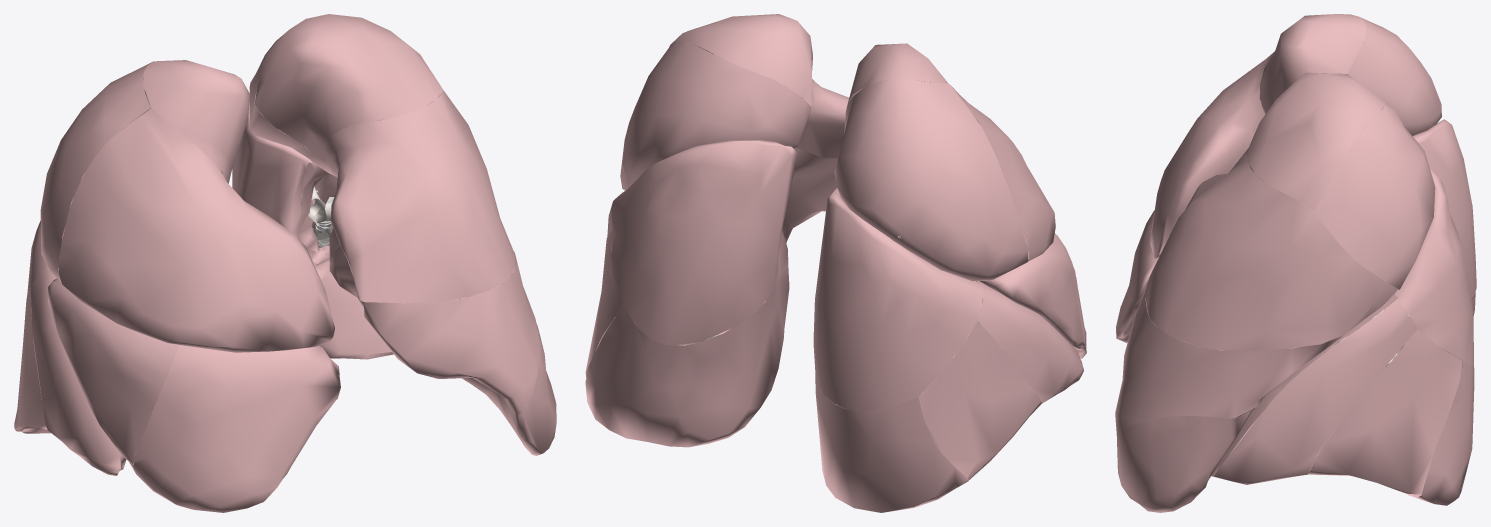
Rendered from 3d-vh-m-lung-20.fbx.
3 renders of one model, left to right at view 1: azimuth 30°, elevation 25°; view 2: azimuth 150°, elevation 25°; view 3: azimuth 270°, elevation 25°, orthographic. The views are drawn at different scales.
Parts seen in each view (by area): view 1: VH_M_right_anterior_bronchopulmonary_segment, VH_M_left_anterior_bronchopulmonary_segment, VH_M_right_medial_bronchopulmonary_segment, VH_M_left_apical_bronchopulmonary_segment, VH_M_left_lingula_superior_bronchopulmonary_segment, VH_M_right_lateral_bronchopulmonary_segment, VH_M_right_apical_bronchopulmonary_segment, VH_M_right_posterior_bronchopulmonary_segment, VH_M_right_anterior_basal_bronchopulmonary_segment, VH_M_left_superior_bronchopulmonary_segment, VH_M_left_lingula_inferior_bronchopulmonary_segment, VH_M_left_medial_basal_bronchopulmonary_segment (+5 smaller); view 2: VH_M_left_superior_bronchopulmonary_segment, VH_M_right_posterior_bronchopulmonary_segment, VH_M_right_superior_bronchopulmonary_segment, VH_M_left_posetrior_basal_bronchopulmonary_segment, VH_M_left_posterior_bronchopulmonary_segment, VH_M_right_posterior_basal_bronchopulmonary_segment, VH_M_right_lateral_basal_bronchopulmonary_segment, VH_M_left_apical_bronchopulmonary_segment, VH_M_right_anterior_basal_bronchopulmonary_segment, VH_M_right_lateral_bronchopulmonary_segment, VH_M_right_anterior_bronchopulmonary_segment, VH_M_left_lingula_superior_bronchopulmonary_segment (+3 smaller); view 3: VH_M_left_anterior_bronchopulmonary_segment, VH_M_left_posterior_bronchopulmonary_segment, VH_M_left_lateral_basal_bronchopulmonary_segment, VH_M_left_anterior_basal_bronchopulmonary_segment, VH_M_left_lingula_superior_bronchopulmonary_segment, VH_M_left_apical_bronchopulmonary_segment, VH_M_left_lingula_inferior_bronchopulmonary_segment, VH_M_right_anterior_bronchopulmonary_segment, VH_M_left_superior_bronchopulmonary_segment, VH_M_right_posterior_bronchopulmonary_segment, VH_M_right_apical_bronchopulmonary_segment, VH_M_left_posetrior_basal_bronchopulmonary_segment (+3 smaller).
Part boxes in pixels (x1=…): VH_M_right_anterior_bronchopulmonary_segment: x1=59, y1=108, x2=334, y2=352; VH_M_left_anterior_bronchopulmonary_segment: x1=324, y1=90, x2=515, y2=303; VH_M_right_medial_bronchopulmonary_segment: x1=129, y1=345, x2=340, y2=512; VH_M_left_apical_bronchopulmonary_segment: x1=254, y1=14, x2=443, y2=162; VH_M_left_lingula_superior_bronchopulmonary_segment: x1=359, y1=252, x2=538, y2=414; VH_M_right_lateral_bronchopulmonary_segment: x1=48, y1=278, x2=179, y2=465; VH_M_right_apical_bronchopulmonary_segment: x1=143, y1=60, x2=250, y2=183; VH_M_right_posterior_bronchopulmonary_segment: x1=40, y1=62, x2=152, y2=283; VH_M_right_anterior_basal_bronchopulmonary_segment: x1=30, y1=270, x2=126, y2=475; VH_M_left_superior_bronchopulmonary_segment: x1=232, y1=91, x2=312, y2=238; VH_M_left_lingula_inferior_bronchopulmonary_segment: x1=329, y1=244, x2=556, y2=455; VH_M_left_medial_basal_bronchopulmonary_segment: x1=319, y1=271, x2=499, y2=359; VH_M_left_superior_bronchopulmonary_segment: x1=611, y1=140, x2=796, y2=345; VH_M_right_posterior_bronchopulmonary_segment: x1=834, y1=80, x2=1028, y2=281; VH_M_right_superior_bronchopulmonary_segment: x1=813, y1=187, x2=983, y2=411; VH_M_left_posetrior_basal_bronchopulmonary_segment: x1=585, y1=262, x2=789, y2=447; VH_M_left_posterior_bronchopulmonary_segment: x1=622, y1=41, x2=811, y2=187; VH_M_right_posterior_basal_bronchopulmonary_segment: x1=815, y1=369, x2=968, y2=512; VH_M_right_lateral_basal_bronchopulmonary_segment: x1=885, y1=321, x2=1041, y2=480; VH_M_left_apical_bronchopulmonary_segment: x1=669, y1=14, x2=812, y2=106; VH_M_right_anterior_basal_bronchopulmonary_segment: x1=951, y1=281, x2=1083, y2=403; VH_M_right_lateral_bronchopulmonary_segment: x1=976, y1=232, x2=1085, y2=348; VH_M_right_anterior_bronchopulmonary_segment: x1=950, y1=85, x2=1055, y2=261; VH_M_left_lingula_superior_bronchopulmonary_segment: x1=623, y1=148, x2=838, y2=240; VH_M_left_anterior_bronchopulmonary_segment: x1=1145, y1=148, x2=1398, y2=350; VH_M_left_posterior_bronchopulmonary_segment: x1=1314, y1=101, x2=1435, y2=289; VH_M_left_lateral_basal_bronchopulmonary_segment: x1=1308, y1=329, x2=1462, y2=494; VH_M_left_anterior_basal_bronchopulmonary_segment: x1=1211, y1=298, x2=1417, y2=484; VH_M_left_lingula_superior_bronchopulmonary_segment: x1=1115, y1=291, x2=1395, y2=434; VH_M_left_apical_bronchopulmonary_segment: x1=1246, y1=72, x2=1385, y2=211; VH_M_left_lingula_inferior_bronchopulmonary_segment: x1=1116, y1=347, x2=1297, y2=512; VH_M_right_anterior_bronchopulmonary_segment: x1=1150, y1=51, x2=1274, y2=258; VH_M_left_superior_bronchopulmonary_segment: x1=1394, y1=168, x2=1473, y2=366; VH_M_right_posterior_bronchopulmonary_segment: x1=1347, y1=17, x2=1441, y2=135; VH_M_right_apical_bronchopulmonary_segment: x1=1259, y1=14, x2=1366, y2=112; VH_M_left_posetrior_basal_bronchopulmonary_segment: x1=1317, y1=303, x2=1474, y2=505.
Bounding box in the file's own units: 25.92 × 22.96 × 18.99.
